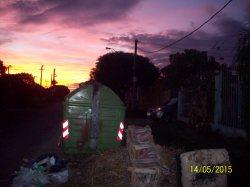Dechets: (127, 124, 168, 186), (179, 149, 233, 187), (11, 155, 68, 186)
Trash: (60, 79, 125, 156)
